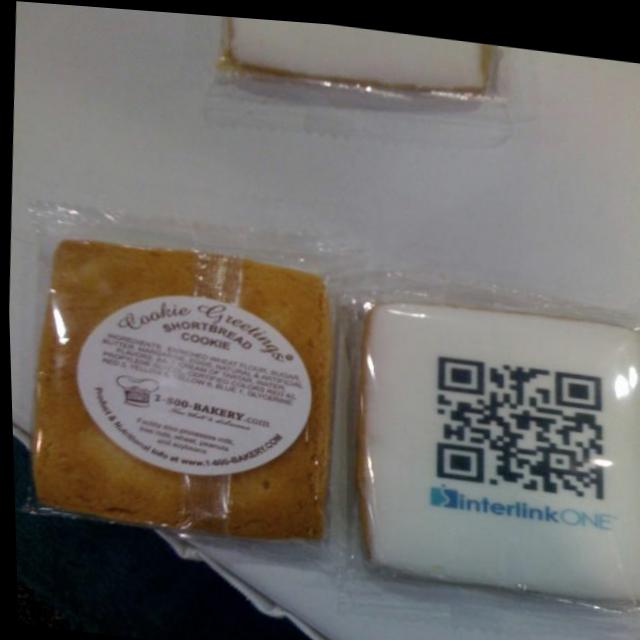qrcode: (431, 350, 607, 492)
